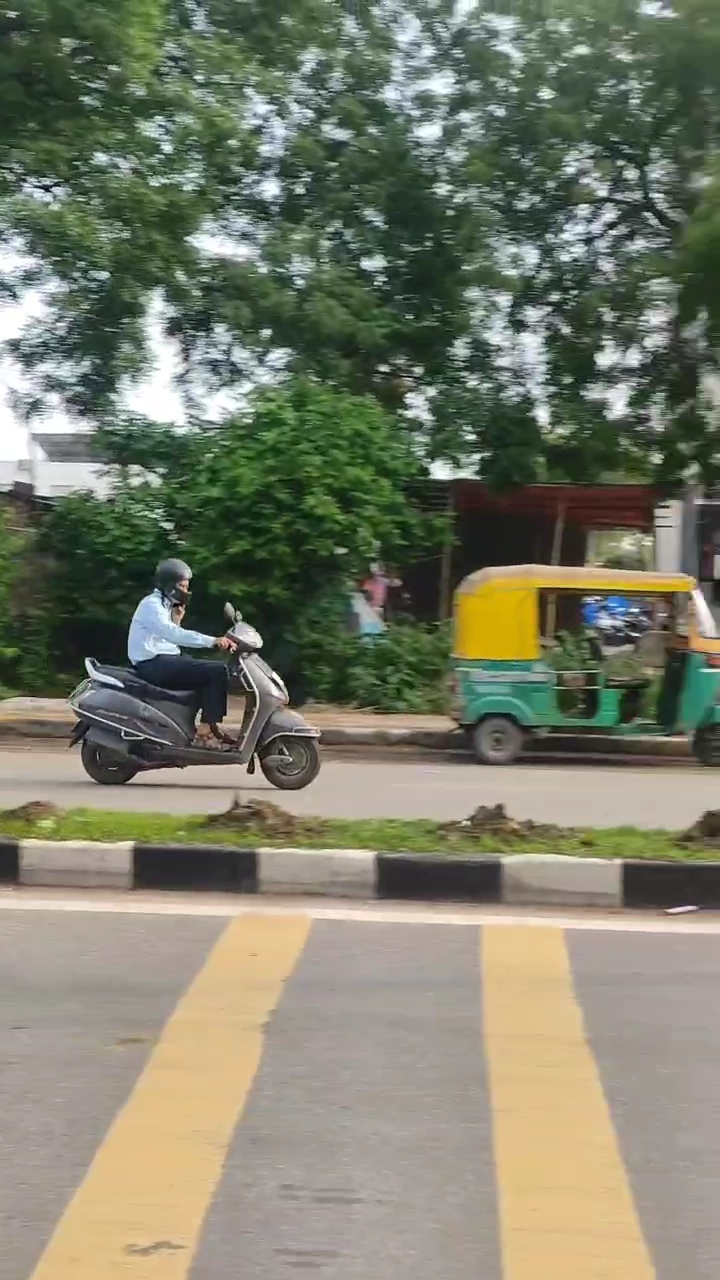BikeWithRider: (57, 548, 332, 794)
Helmet: (137, 547, 212, 616), (145, 553, 198, 609)
